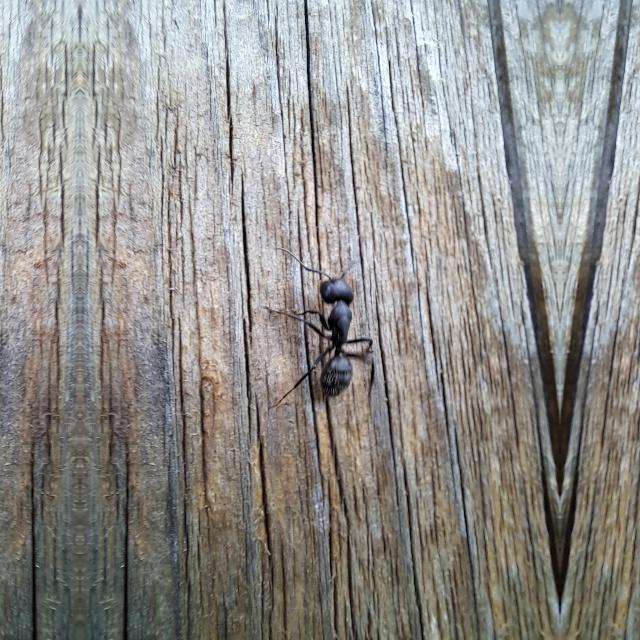Camponotus: (278, 249, 379, 403)
